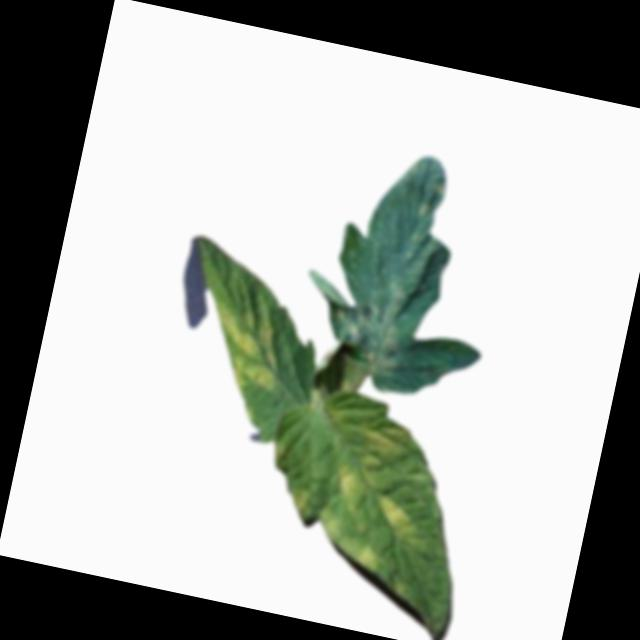Leaf_Mold: (328, 273, 422, 382), (203, 302, 295, 396), (359, 417, 413, 473), (372, 494, 430, 544), (330, 465, 366, 508), (284, 482, 320, 518), (354, 539, 387, 575)
